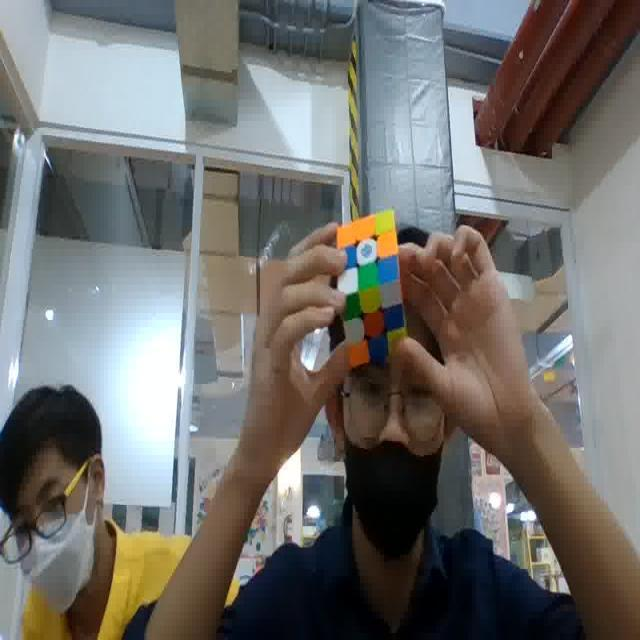Rub: (330, 208, 405, 366)
